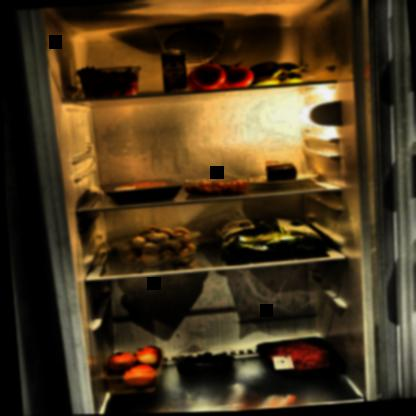banana: (248, 59, 310, 90)
blueberries: (173, 349, 233, 380)
cheese: (260, 156, 298, 186)
ground_beef: (252, 333, 344, 383)
heavy_cream: (159, 48, 187, 95)
mushrooms: (111, 219, 203, 267)
onion: (102, 342, 166, 393)
shrimp: (181, 177, 248, 196)
spinach: (214, 214, 332, 262)
strawberries: (75, 59, 140, 98)
tomato: (182, 57, 257, 94)
